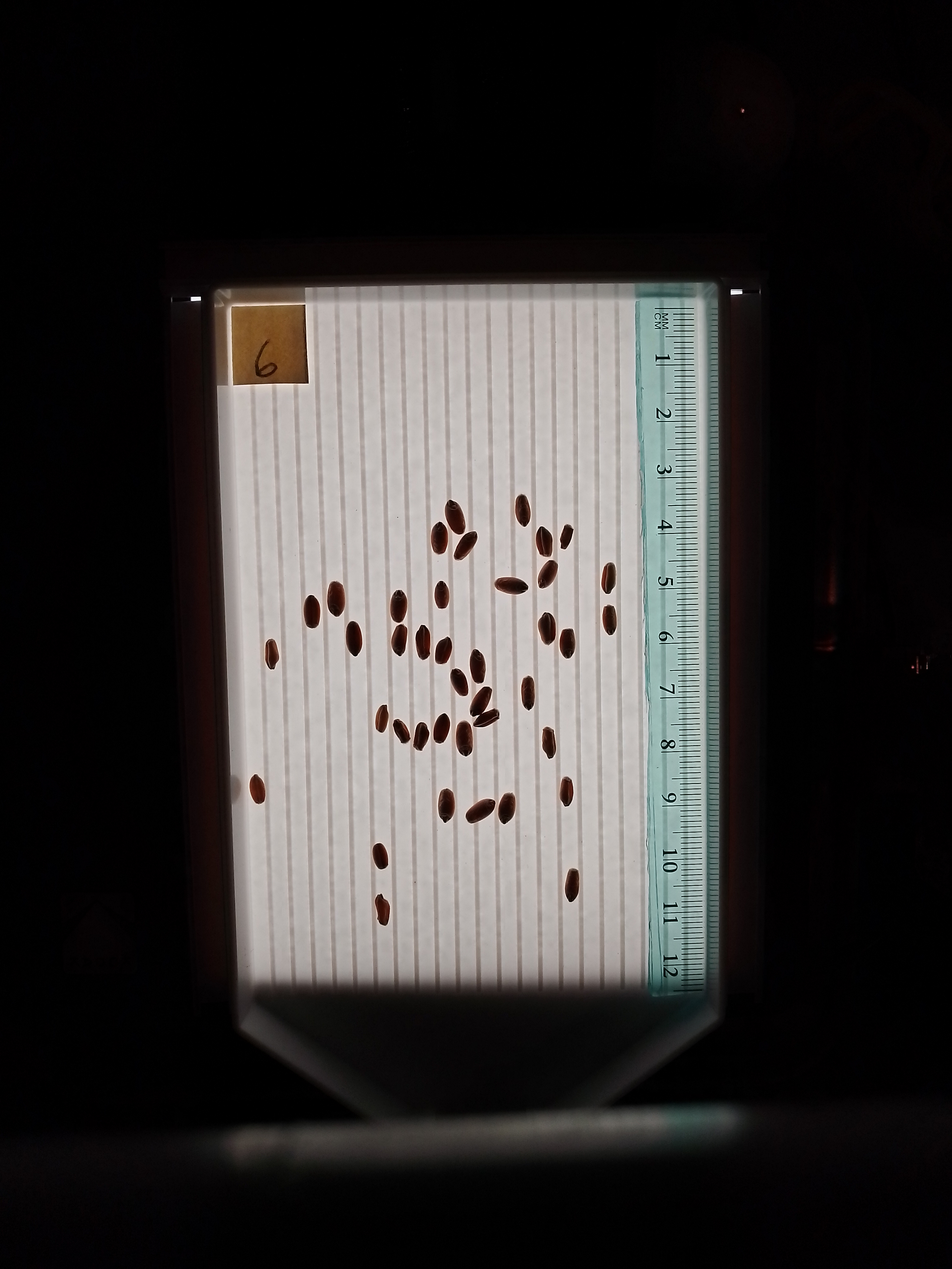seed mask: (466, 798, 495, 823), (454, 531, 477, 560), (446, 500, 465, 535), (470, 687, 491, 717), (327, 582, 345, 615), (456, 722, 473, 756), (346, 622, 363, 655), (538, 560, 558, 588), (496, 577, 527, 595), (538, 614, 556, 644), (431, 523, 448, 554), (470, 651, 486, 683), (304, 596, 320, 628), (438, 790, 454, 822), (514, 496, 531, 526), (390, 591, 407, 621), (416, 625, 431, 659), (536, 527, 553, 556), (520, 677, 535, 709), (499, 794, 515, 824), (433, 715, 450, 743), (249, 775, 266, 803), (602, 563, 617, 594), (375, 895, 390, 926), (565, 869, 579, 902), (435, 637, 452, 664), (475, 709, 499, 728), (451, 669, 468, 695), (602, 605, 617, 634), (560, 629, 575, 658), (265, 640, 280, 669), (413, 723, 429, 750), (372, 843, 388, 870), (392, 626, 407, 654), (542, 728, 556, 757), (434, 582, 449, 609), (394, 720, 410, 744), (375, 705, 389, 732), (560, 778, 573, 806), (560, 525, 573, 549)
